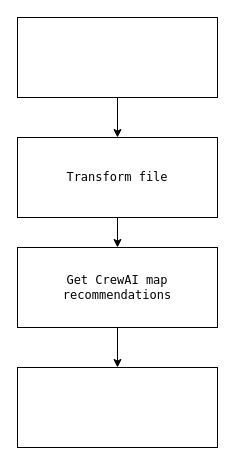
Some shapes in this 235 by 465 pixel diagram are drawn without their labels. The shapes that lost their labels are listed below. From the top down, each one's centre as x and y in pixels, then its label:
At [117,57]: "Upload file & validation rules".
At [117,407]: "Map according to CrewAI output".
